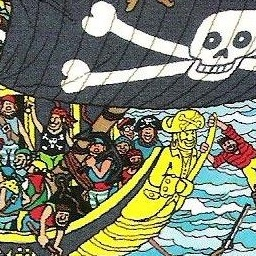waldo: (118, 118, 138, 138)
